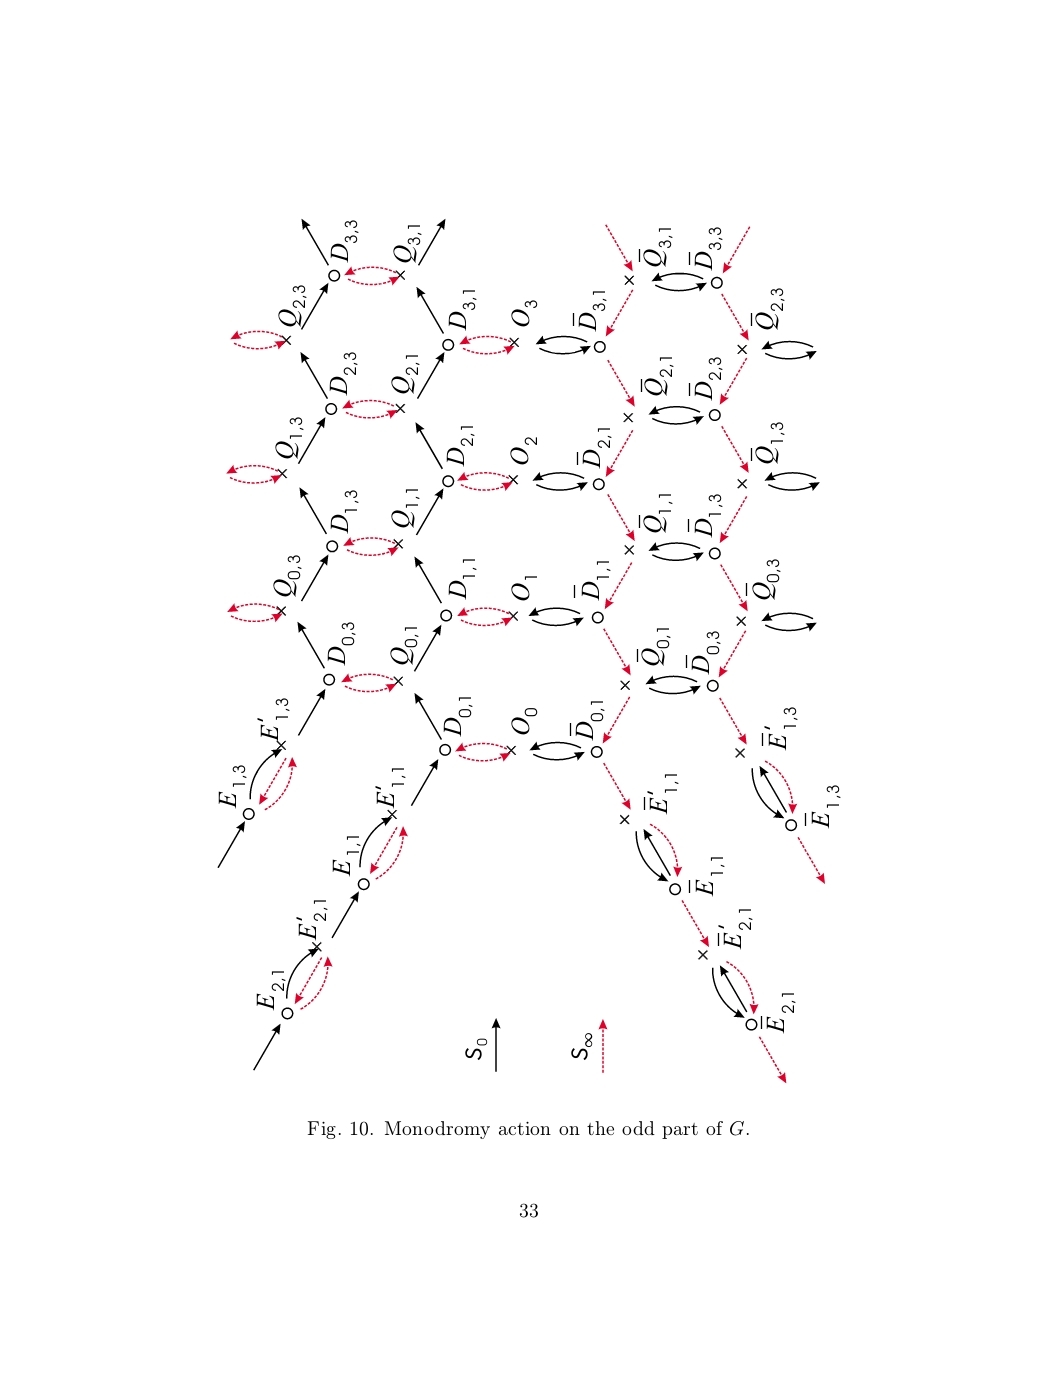figure: (217, 217, 840, 1083)
